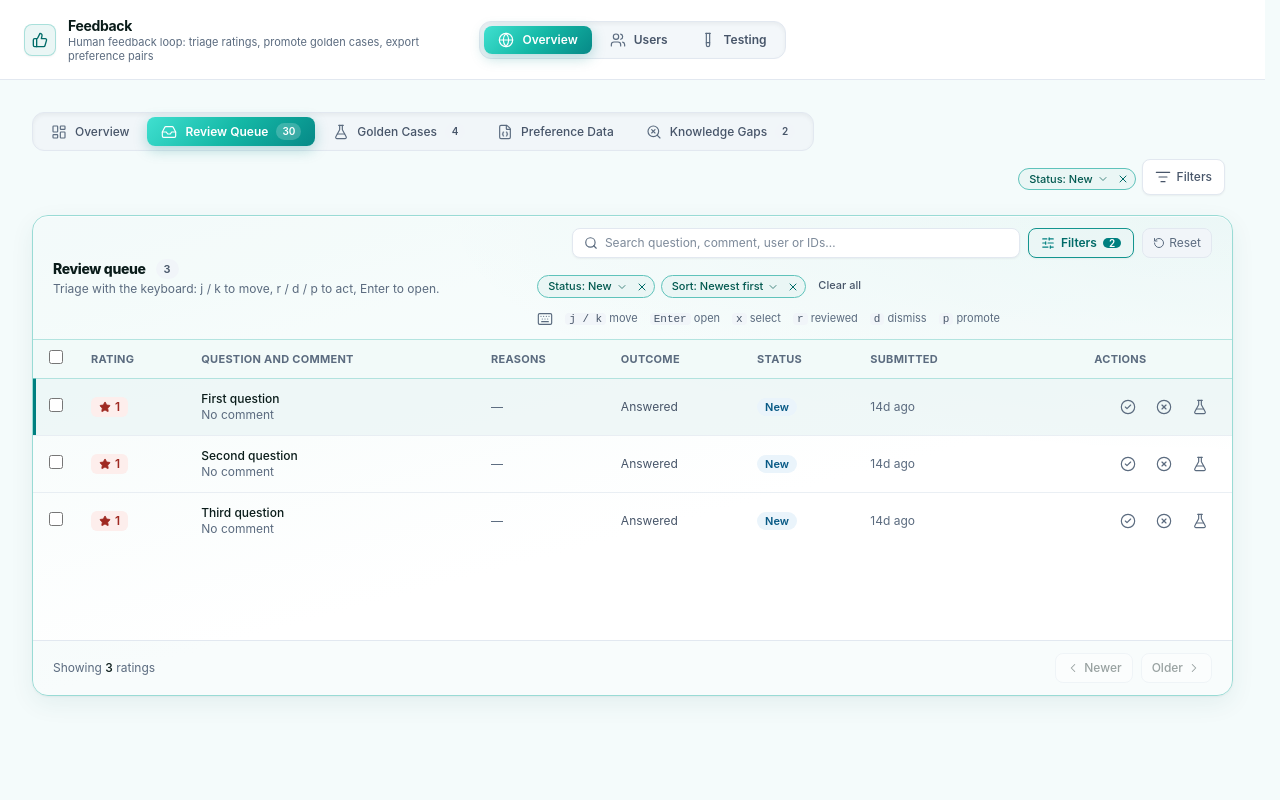
Test: Review Queue triage workspace › triages row after row without waiting for the previous request
Expected: the number of rows with test id "queue-row" is 3, [33,378,1232,436]; [33,436,1232,492]; [33,492,1232,549]
Click the button named "Mark reviewed" in the row of "First question" at (1128, 407), box [1112,391,1144,423]
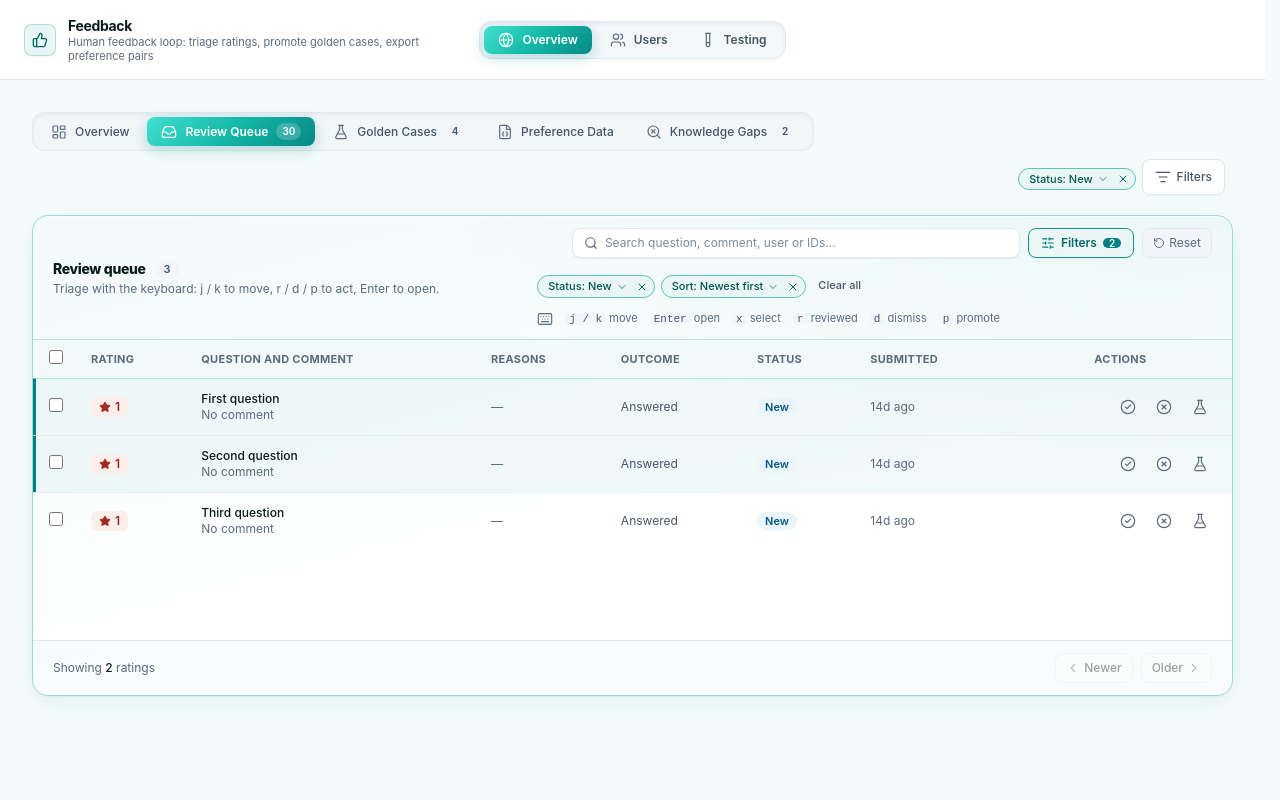
Same tick: the first PATCH has not resolved yet.
Click the button named "Dismiss" in the row of "Second question" at (1164, 464), box [1148,448,1180,480]
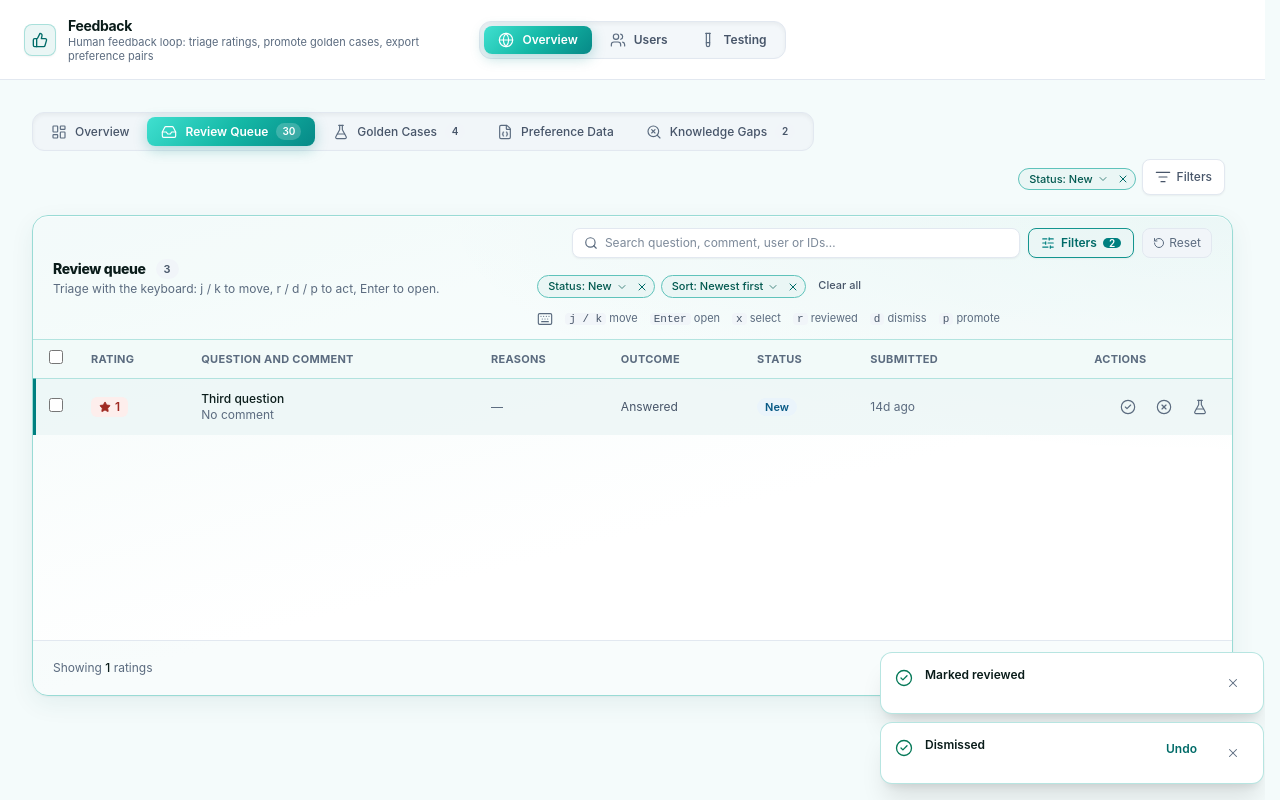
Result: the number of rows with test id "queue-row" is 1 at [33,378,1232,435]
